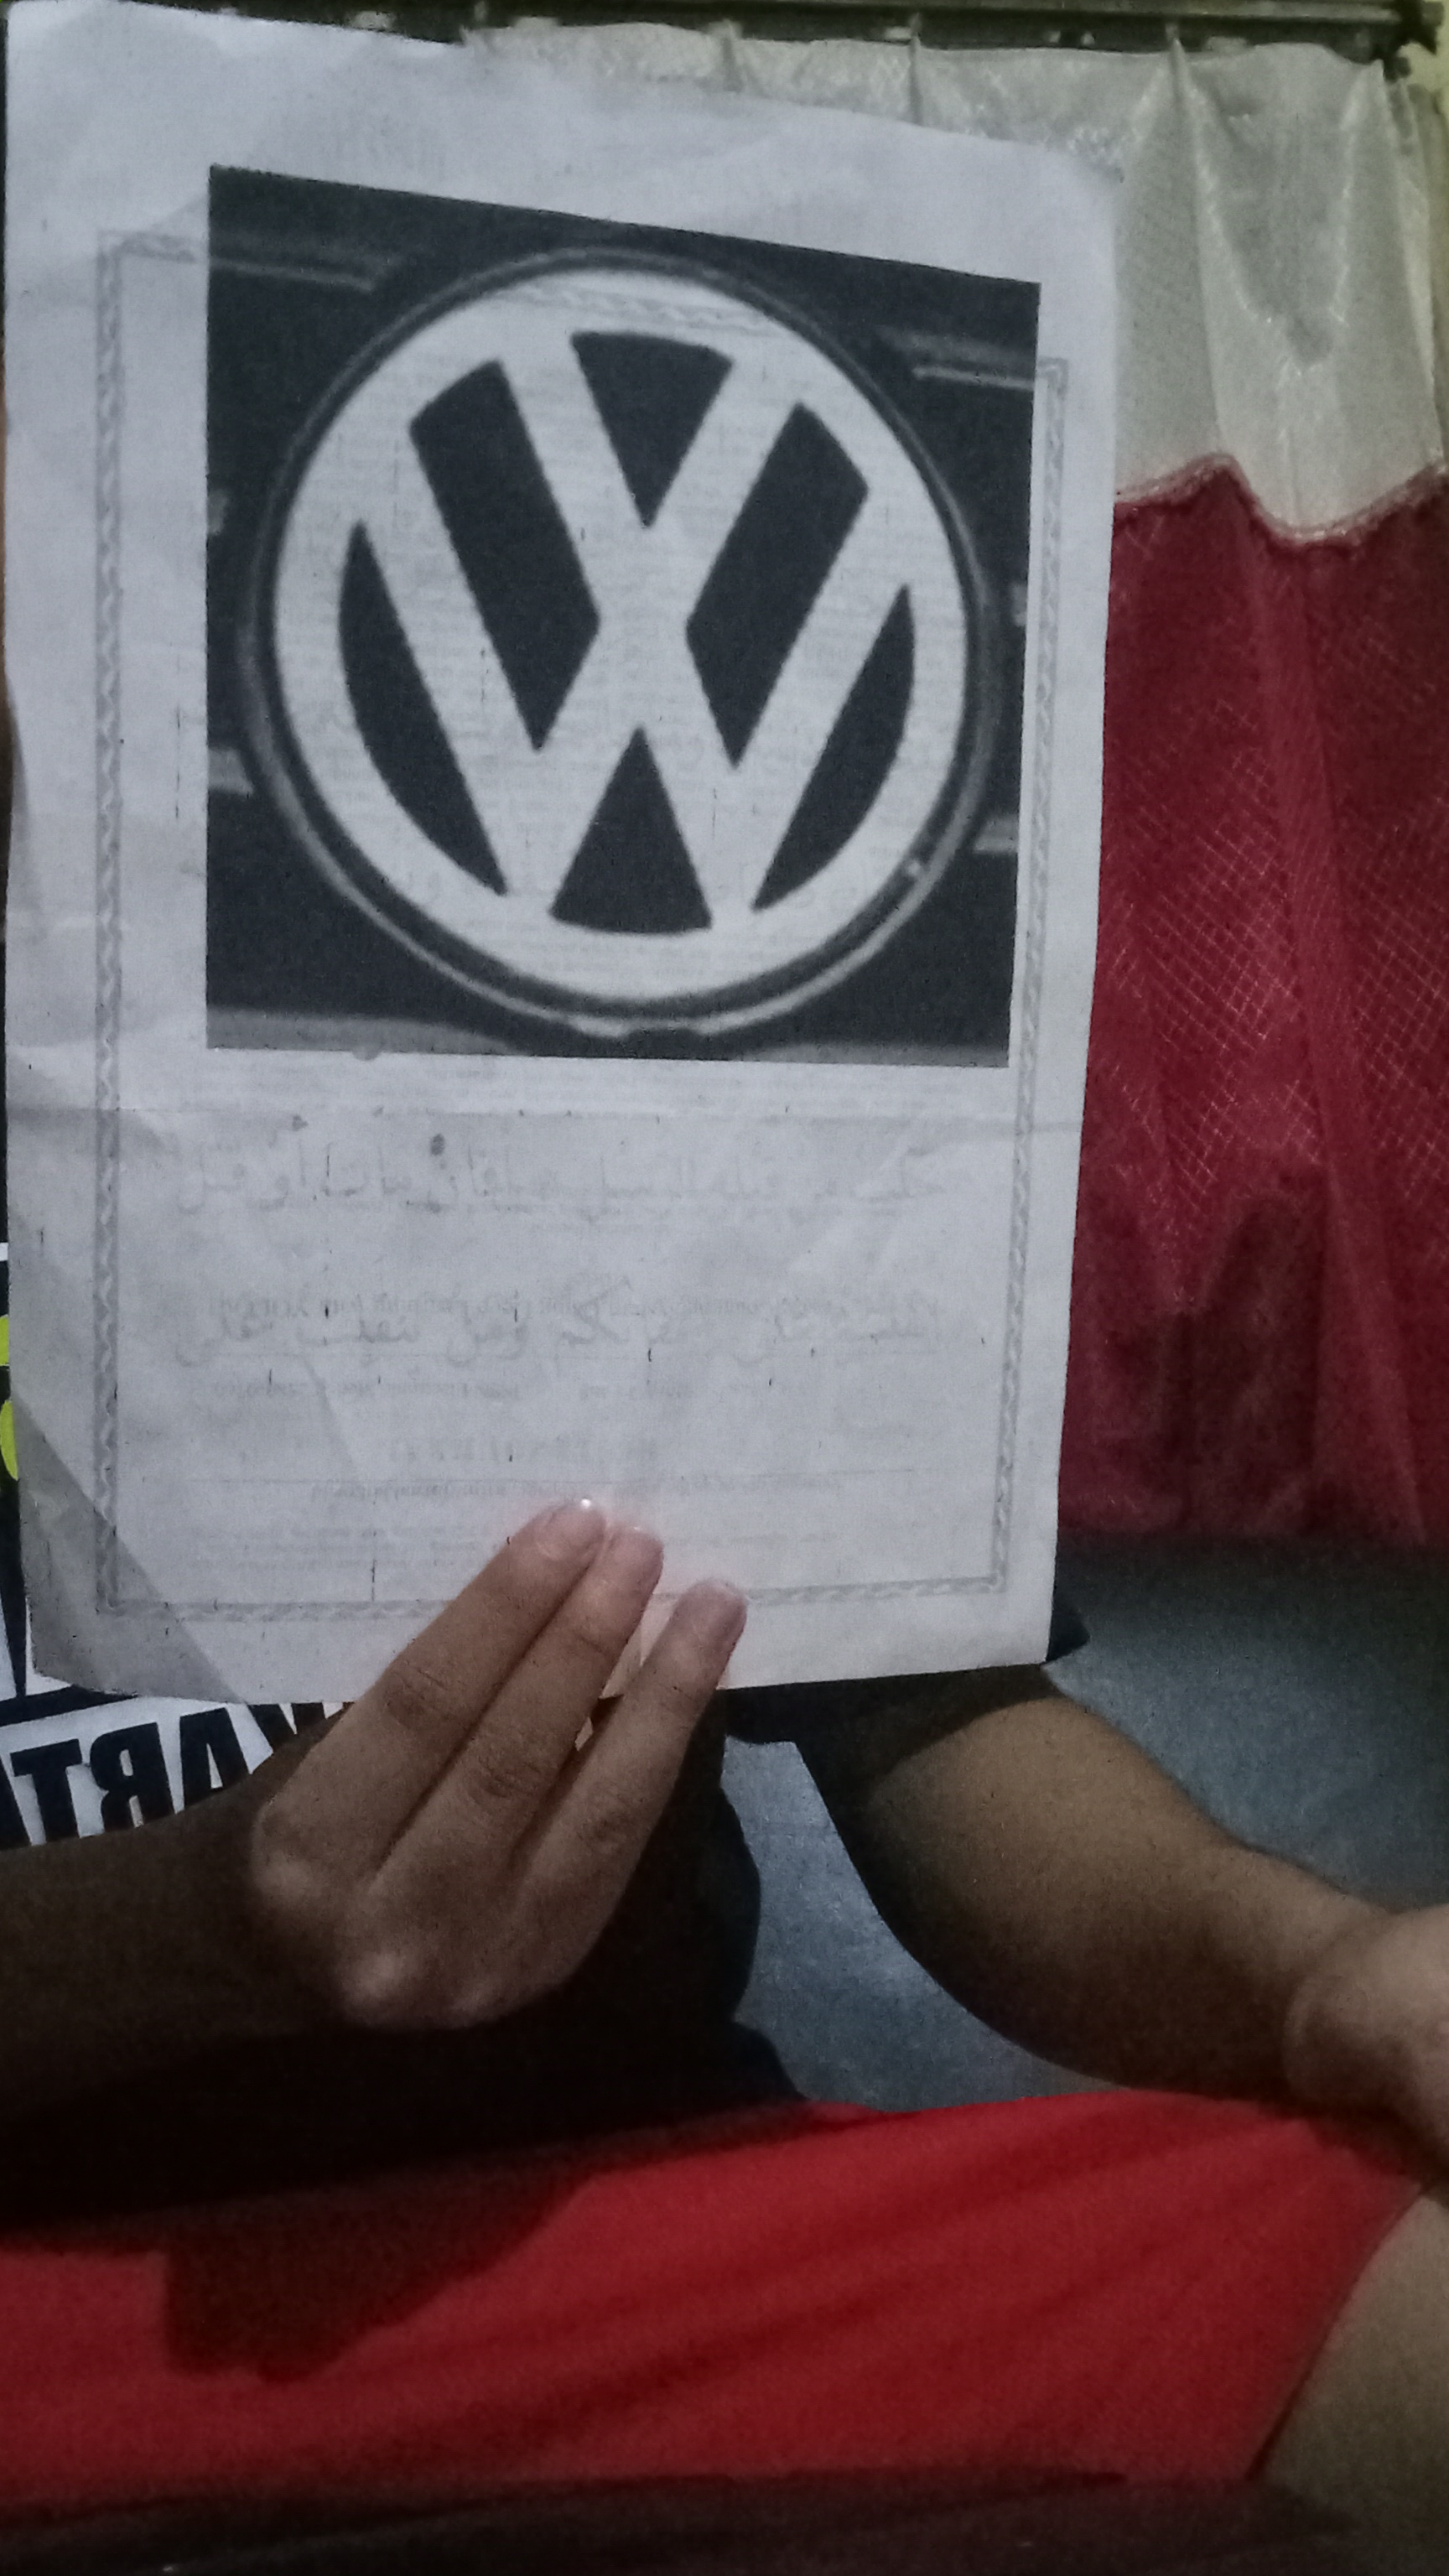Volkswagen: (195, 212, 1003, 1070)
